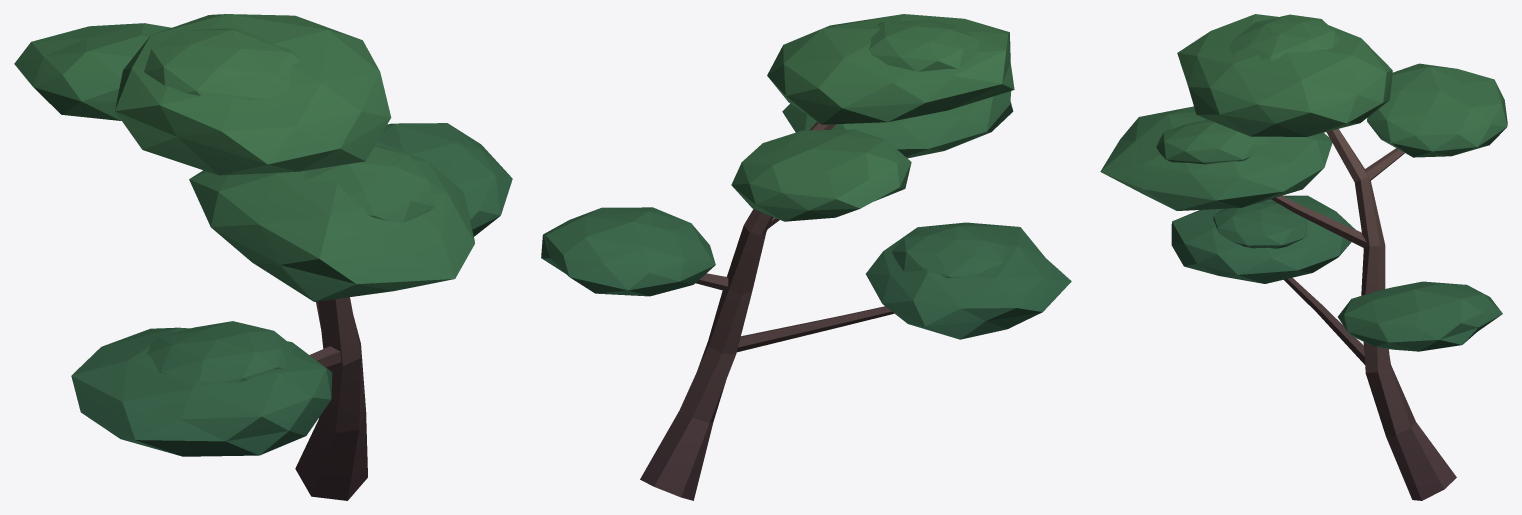
File: pine_b.glb
The picture shows the model from 3 angles, left to right: view 1: azimuth 30°, elevation 25°; view 2: azimuth 150°, elevation 25°; view 3: azimuth 270°, elevation 25°; orthographic projection. The views are drawn at different scales.
Parts seen in each view (by area): view 1: pine_b; view 2: pine_b; view 3: pine_b.
Boxes of the visible parts, x1,y1,x2,y2 form: pine_b: (14, 14, 512, 500); pine_b: (541, 14, 1071, 500); pine_b: (1100, 14, 1507, 500).
Size of the model in its own units: 5.7 by 6.02 by 5.6.
